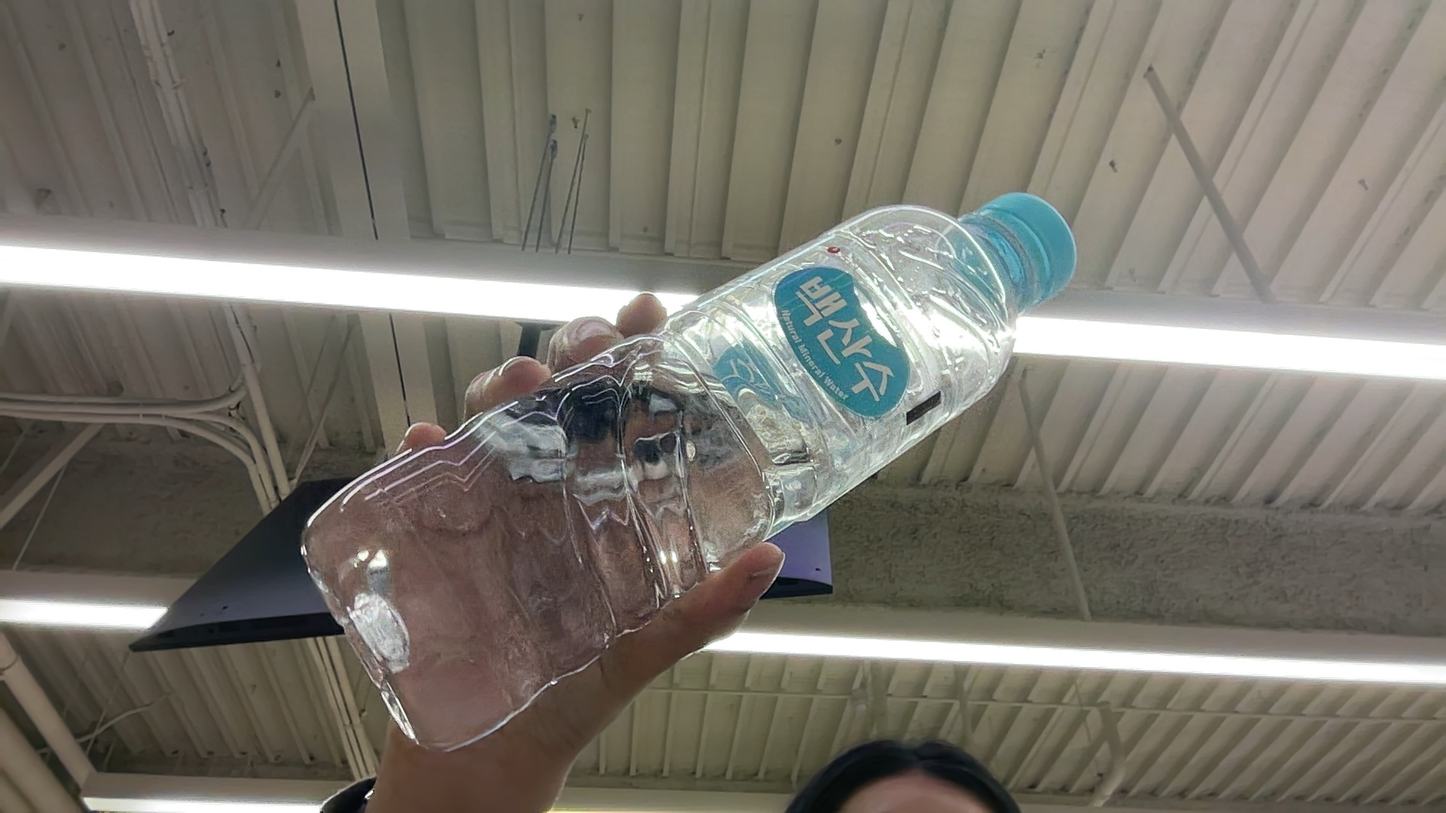Plastic: (3, 403, 280, 611)
